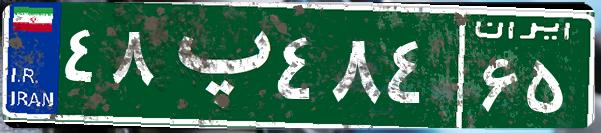4: (385, 28, 445, 110), (273, 28, 330, 110), (57, 26, 110, 107)
5: (525, 38, 570, 115)
6: (475, 38, 525, 113)
8: (330, 28, 385, 110), (110, 28, 158, 105)
پ: (158, 15, 273, 115)
